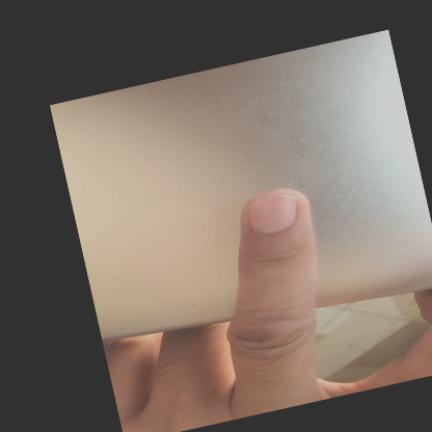Nail: (250, 195, 296, 233)
